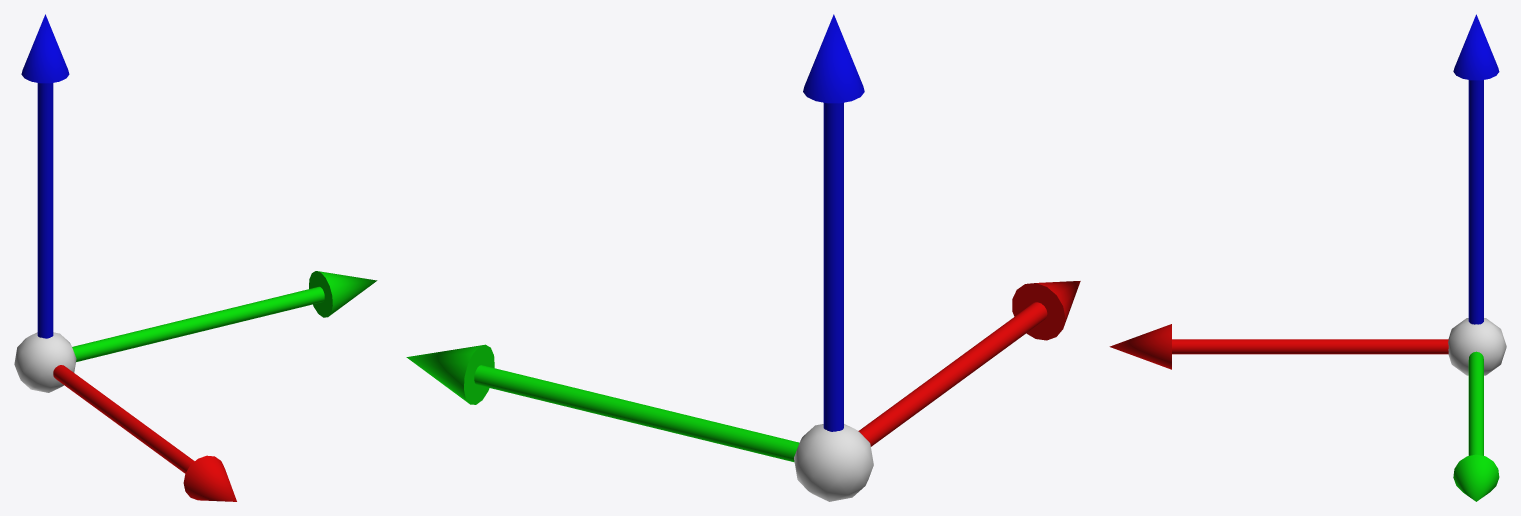
Rendered from gizmo.fbx.
3 renders of one model, left to right at view 1: azimuth 30°, elevation 25°; view 2: azimuth 150°, elevation 25°; view 3: azimuth 270°, elevation 25°, orthographic. The views are drawn at different scales.
Visible parts, largest first — view 1: Icosphere; view 2: Icosphere; view 3: Icosphere.
Boxes of the visible parts, x1=… form: Icosphere: x1=14, y1=14, x2=377, y2=501; Icosphere: x1=406, y1=14, x2=1080, y2=501; Icosphere: x1=1109, y1=14, x2=1506, y2=501.
Size of the model in its own units: 131 by 130 by 131.
